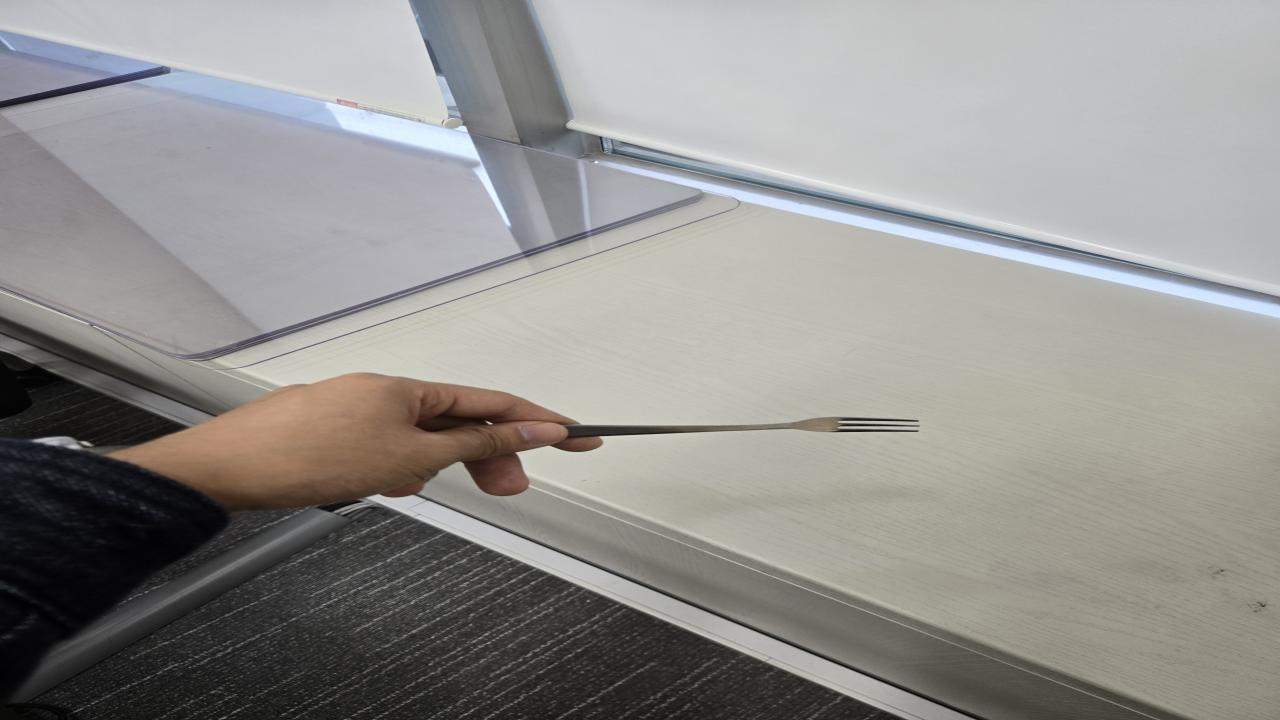fork: (570, 415, 920, 437)
